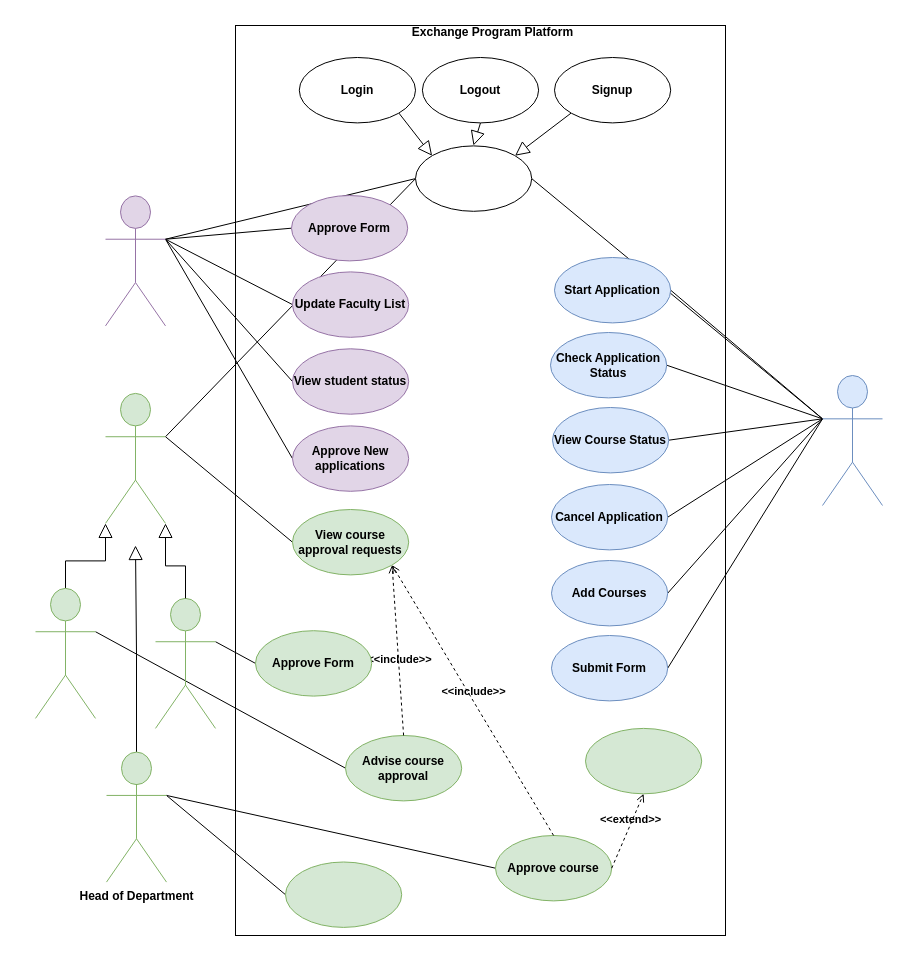
The diagram is 900 pixels wide and 953 high, and some of its shapes have lost their labels. The shapes that lost their labels are listed below. From the top down, each one's centre as x and y in pixels, then its label:
At pixel 473 178: "Authenticate".
At pixel 135 260: "Admin (IXO)".
At pixel 135 457: "Faculty".
At pixel 852 440: "Student".
At pixel 65 652: "Teaching Faculty".
At pixel 185 662: "Approval Faculty".
At pixel 643 760: "Delegate Approval Request".
At pixel 343 894: "Upload Syllabus".
